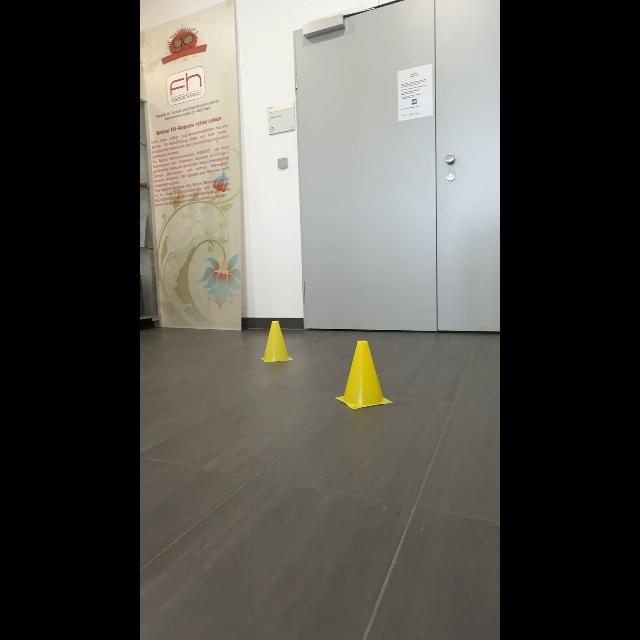yellow_cone: (336, 338, 392, 410), (258, 316, 300, 368)
